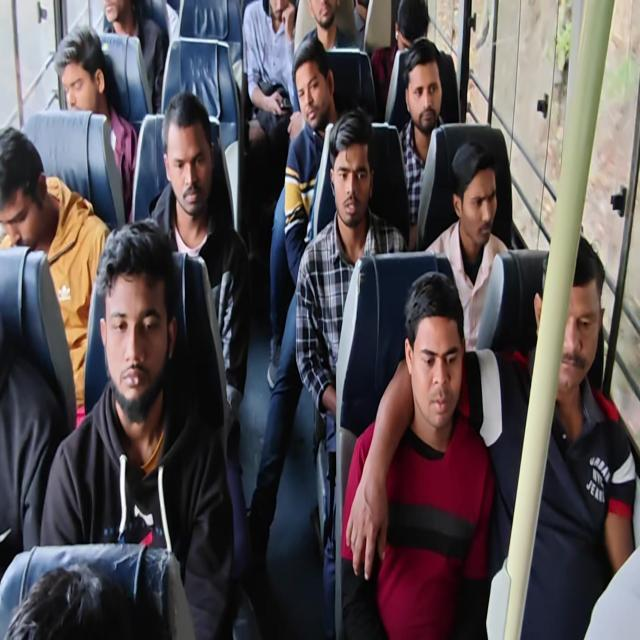person: (88, 252, 178, 415), (12, 551, 143, 640), (407, 278, 463, 429), (540, 257, 598, 399), (53, 34, 109, 126), (168, 117, 216, 221), (0, 136, 46, 244), (329, 128, 368, 228), (290, 48, 334, 129), (462, 158, 500, 241), (410, 53, 445, 131), (392, 0, 434, 50), (99, 0, 137, 35), (308, 0, 344, 32), (261, 0, 296, 31)
